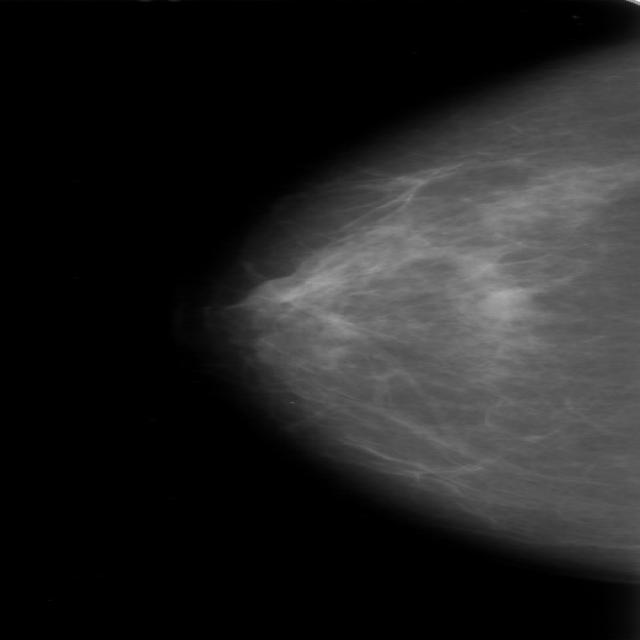tumour: (472, 285, 536, 320)
